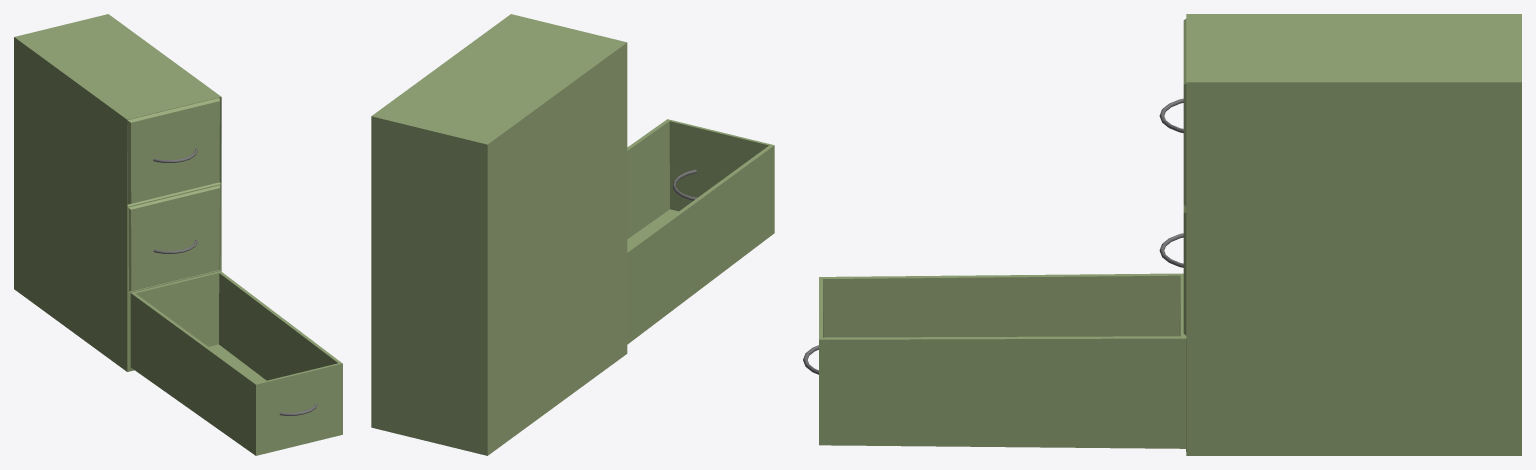
Rendered from FileCabnetMod.fbx.
The picture shows the model from 3 angles, left to right: view 1: azimuth 30°, elevation 25°; view 2: azimuth 150°, elevation 25°; view 3: azimuth 270°, elevation 25°; orthographic projection. The views are drawn at different scales.
Parts seen in each view (by area): view 1: pCube1; view 2: pCube1; view 3: pCube1.
Part boxes in pixels (box(x1,y1,x2,y2)): pCube1: box(14, 14, 342, 455); pCube1: box(371, 14, 774, 455); pCube1: box(819, 14, 1521, 455).
Bounding box in the file's own units: 305 × 781 × 1361.
